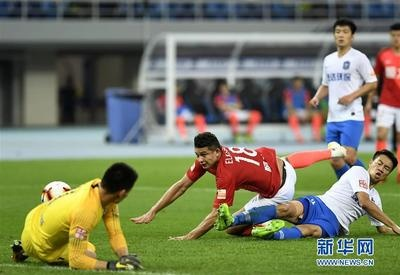falling: (149, 120, 330, 241)
